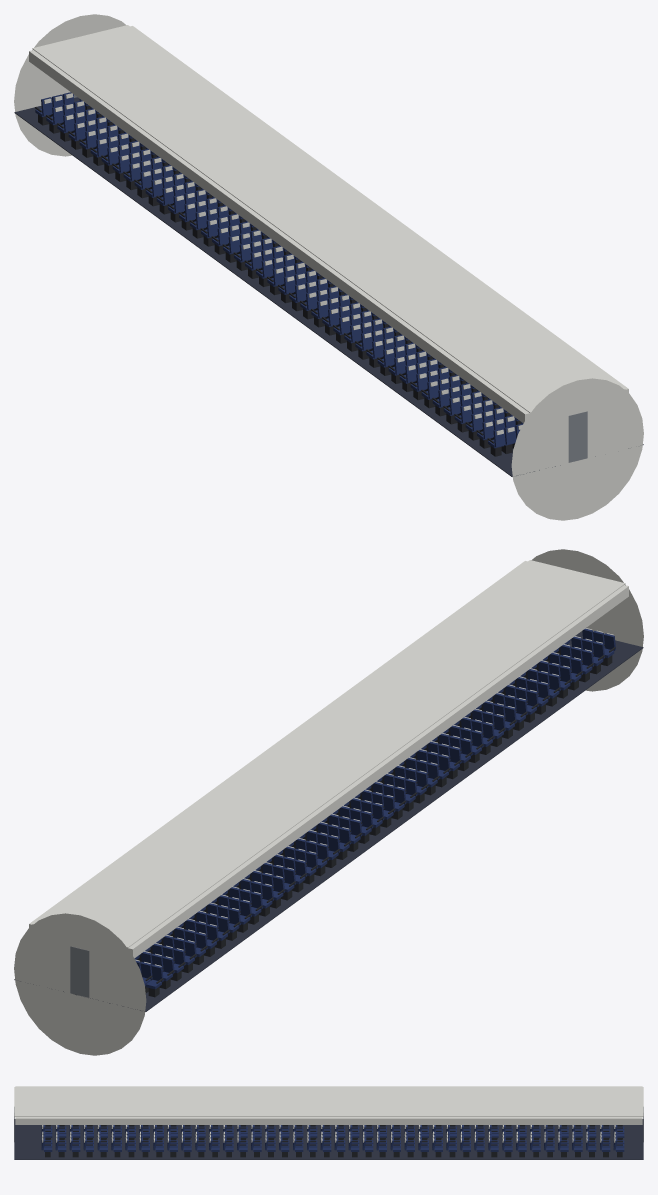
File: lat_quadjet_cabin.dae
3 views of the same model, one above another, from view 1: azimuth 30°, elevation 25°; view 2: azimuth 150°, elevation 25°; view 3: azimuth 270°, elevation 25° (orthographic). The views are drawn at different scales.
Visible parts, largest first — view 1: lat_quadjet_cabin64; view 2: lat_quadjet_cabin64; view 3: lat_quadjet_cabin64.
Part boxes in pixels (bbox=[...]): lat_quadjet_cabin64: bbox=[14, 14, 643, 520]; lat_quadjet_cabin64: bbox=[14, 549, 643, 1055]; lat_quadjet_cabin64: bbox=[14, 1086, 643, 1159].
Size of the model in its own units: 5.61 by 36.57 by 5.61.
